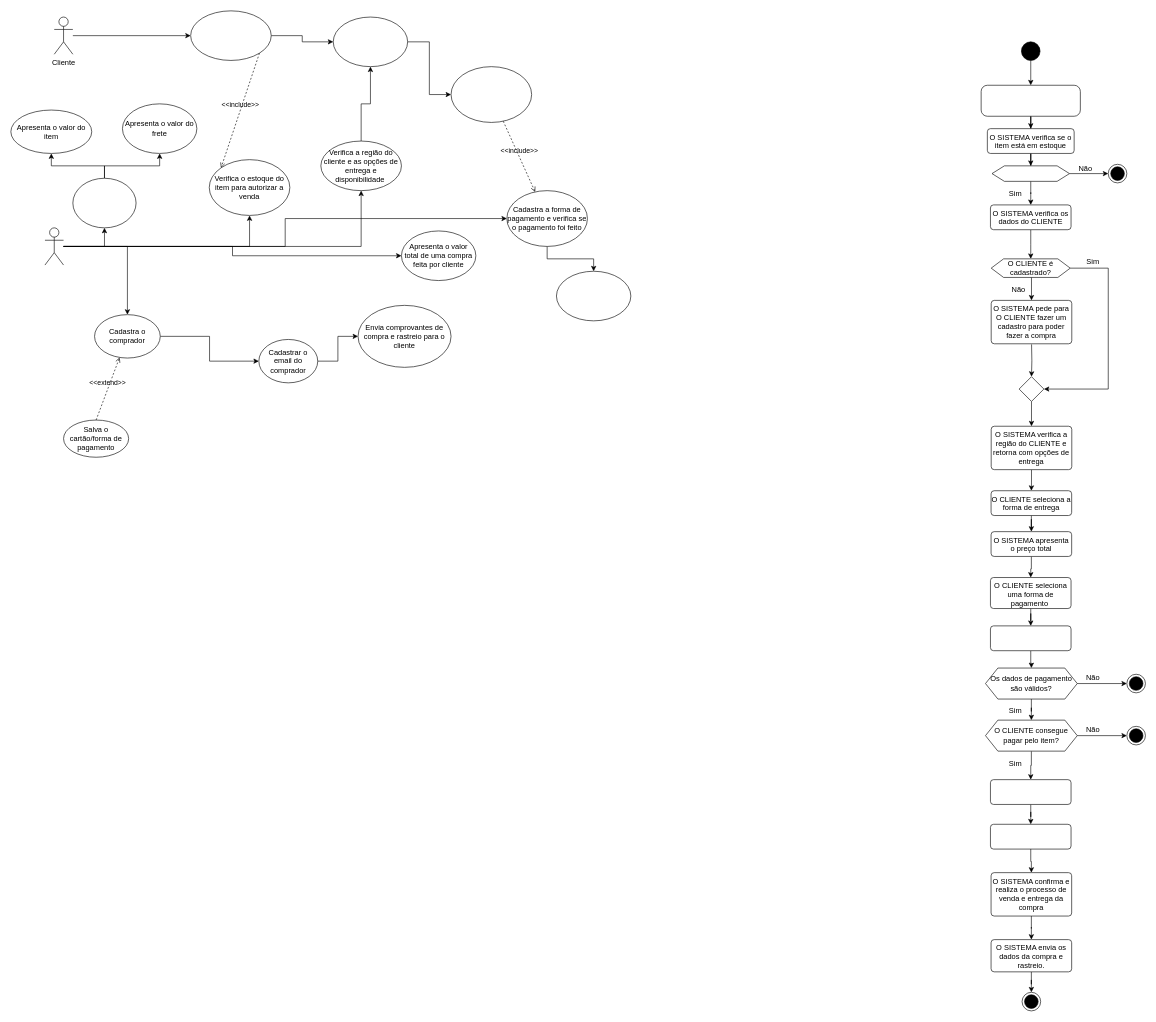
The diagram is 1156 pixels wide and 1022 high, and some of its shapes have lost their labels. Each missing label, with the box of its shape:
Cadastra o item de um vendedor: (72, 178, 136, 228)
Confirma a compra: (556, 271, 631, 321)
Confirma a compra após receber o valor total: (450, 66, 532, 122)
Escolhe uma forma de entrega: (333, 16, 408, 67)
Explora o catálogo e seleciona um item para comprar: (190, 10, 271, 60)
O CLIENTE finaliza a compra: (990, 824, 1071, 849)
O CLIENTE folheia o catálogo e seleciona os itens que quer comprar: (981, 85, 1080, 116)
O item tem estoque?: (991, 165, 1070, 181)
O SISTEMA autoriza a compra: (990, 779, 1071, 804)
O SISTEMA verifica os dados do pagamento: (990, 625, 1071, 651)
Sistema: (44, 227, 64, 265)
